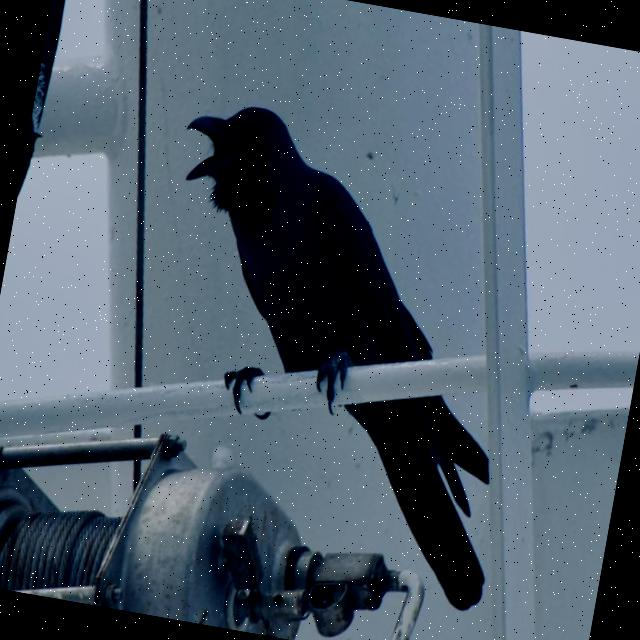crow: (107, 89, 566, 620)
